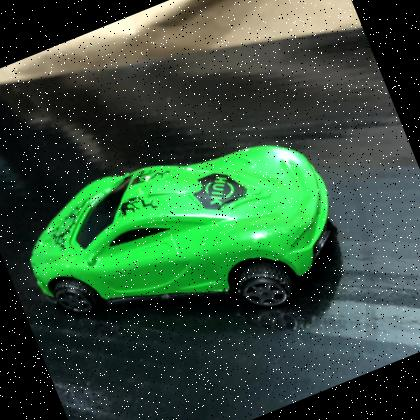Car: (30, 145, 332, 318)
